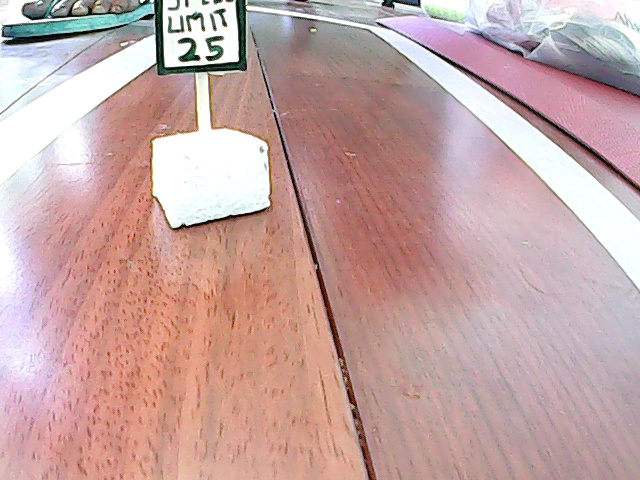speed_25: (137, 1, 281, 211)
